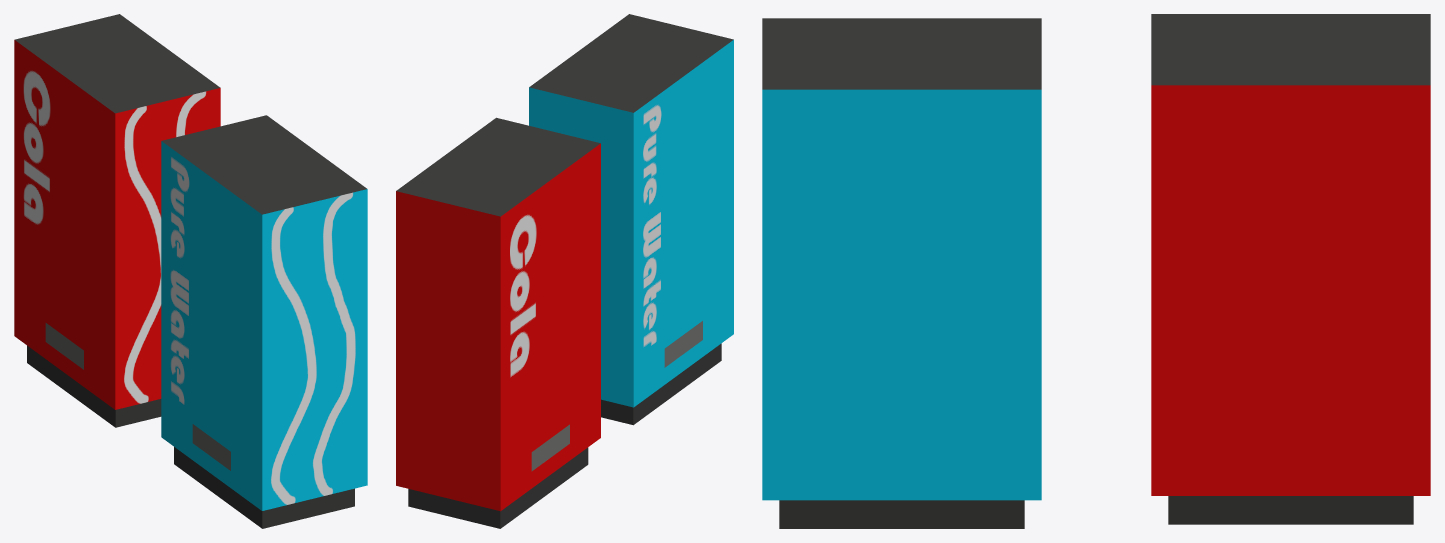
File: waterdis.fbx
3 renders of one model, left to right at view 1: azimuth 30°, elevation 25°; view 2: azimuth 150°, elevation 25°; view 3: azimuth 270°, elevation 25°, orthographic. The views are drawn at different scales.
Parts seen in each view (by area): view 1: coladis, waterdis; view 2: waterdis, coladis; view 3: coladis, waterdis.
Part boxes in pixels (<box>): coladis: <box>161,115,367,528</box>; waterdis: <box>14,14,220,427</box>; waterdis: <box>396,117,600,528</box>; coladis: <box>529,14,733,425</box>; coladis: <box>762,18,1041,528</box>; waterdis: <box>1151,14,1430,524</box>.
Bounding box in the file's own units: 126 × 343 × 469.
2 materials, 2 textured.
